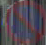No waiting: (4, 3, 44, 44)
